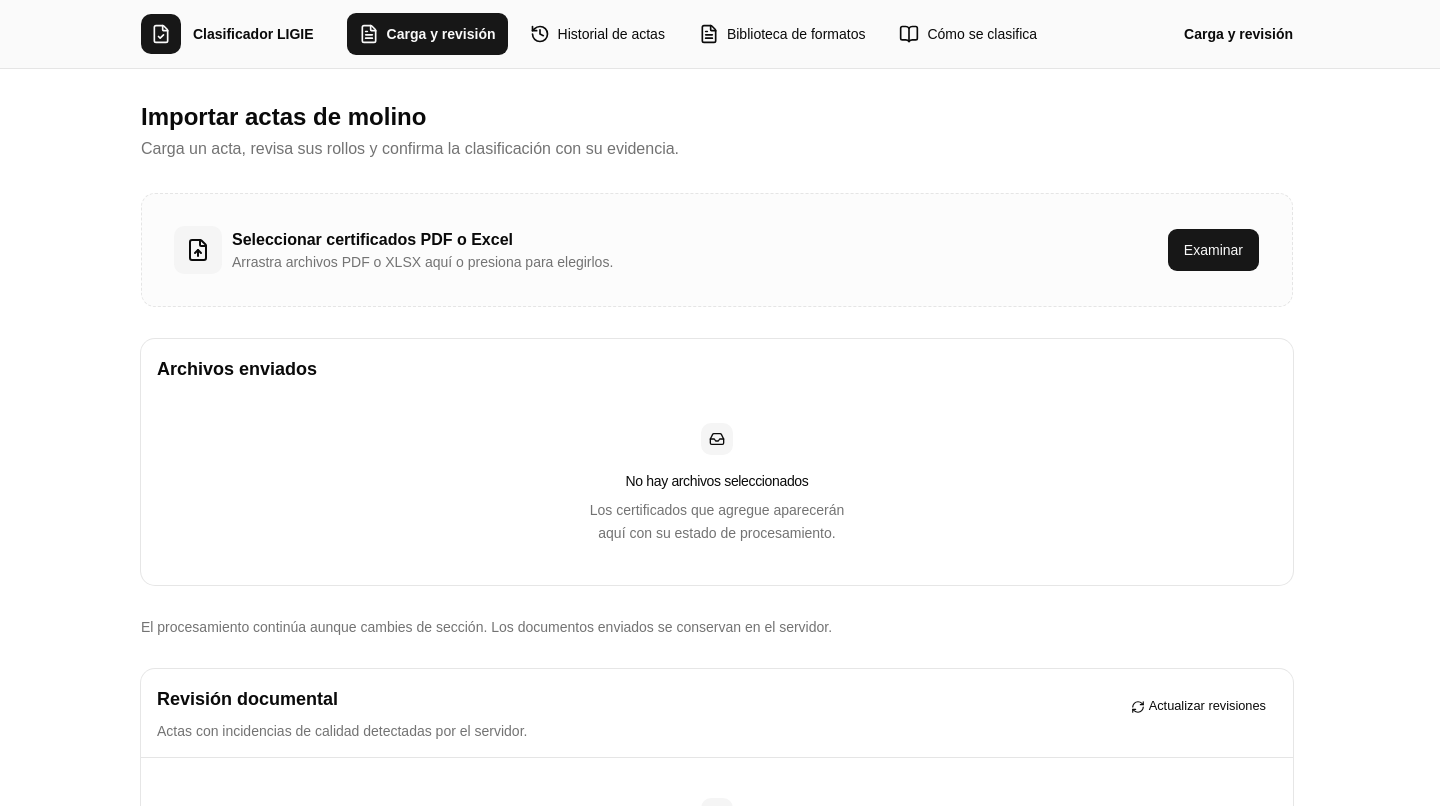
Borrar el acta abierta › muestra el error 403 y permite reintentar sin cerrar el acta
The image size is (1440, 806).
Click the button "Historial de actas": [597, 34] box [516,12,678,56]
(page scrolled)
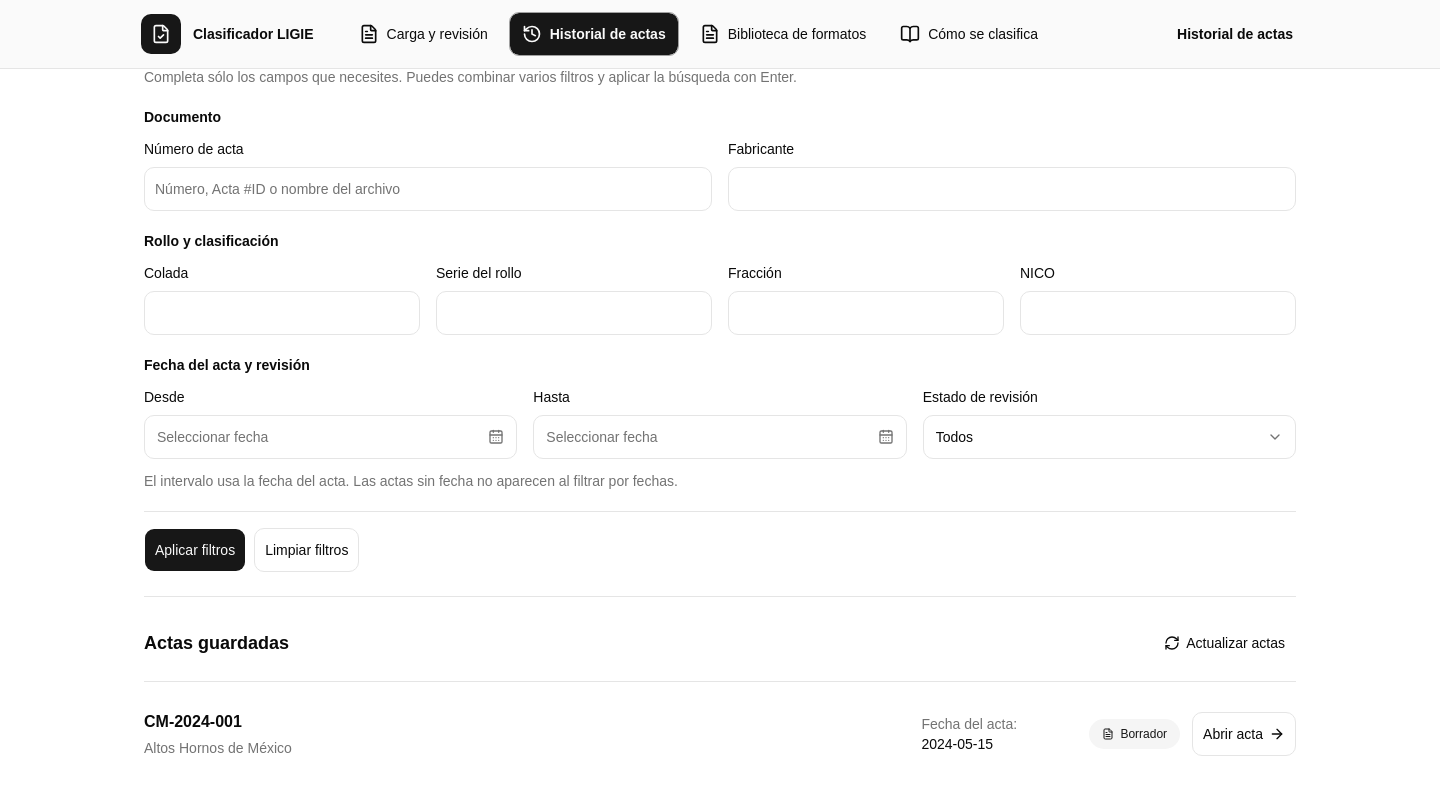
Click the button "Abrir acta": [1244, 734] box [1192,712,1296,756]
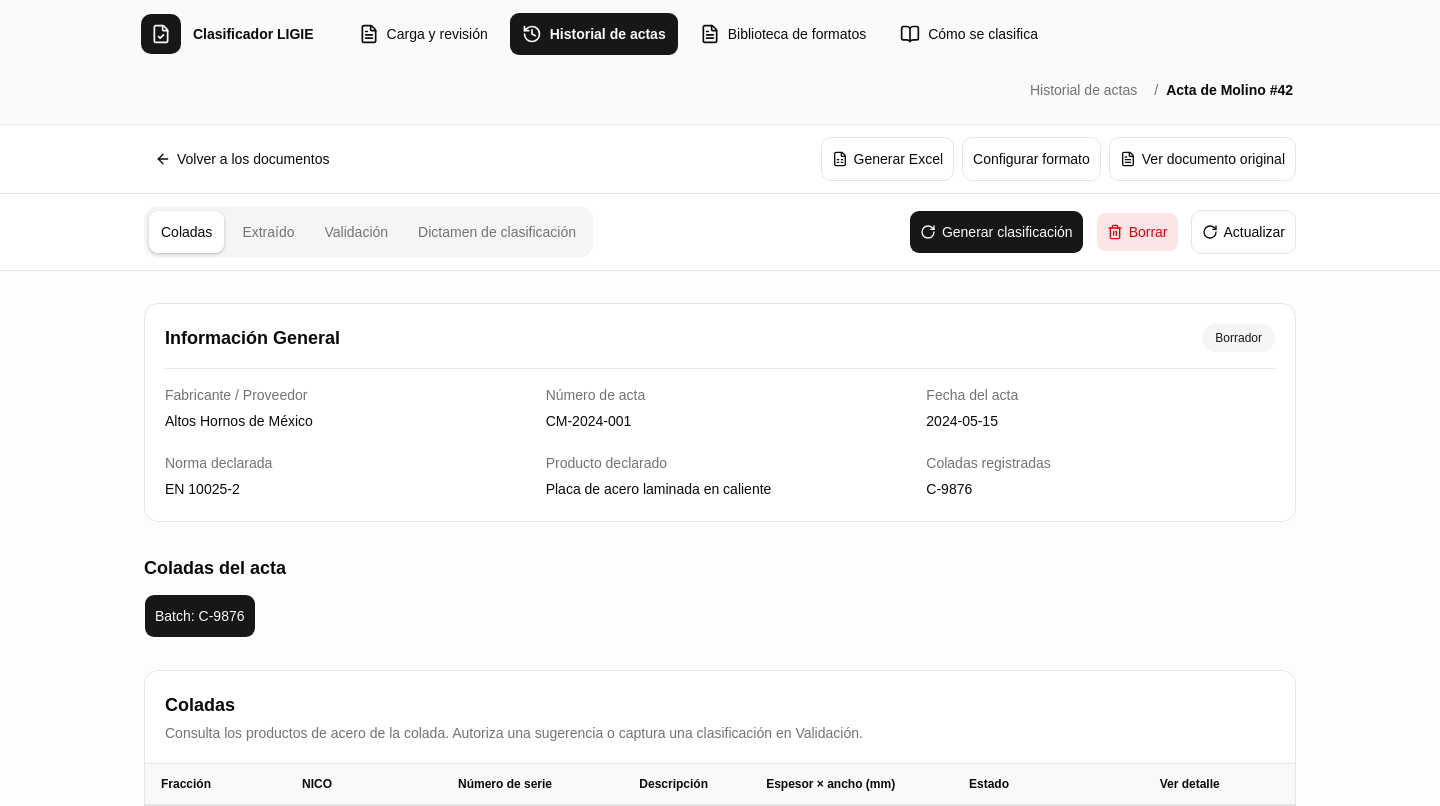
Click the button "Borrar": [1137, 232] box [1096,212,1178,252]
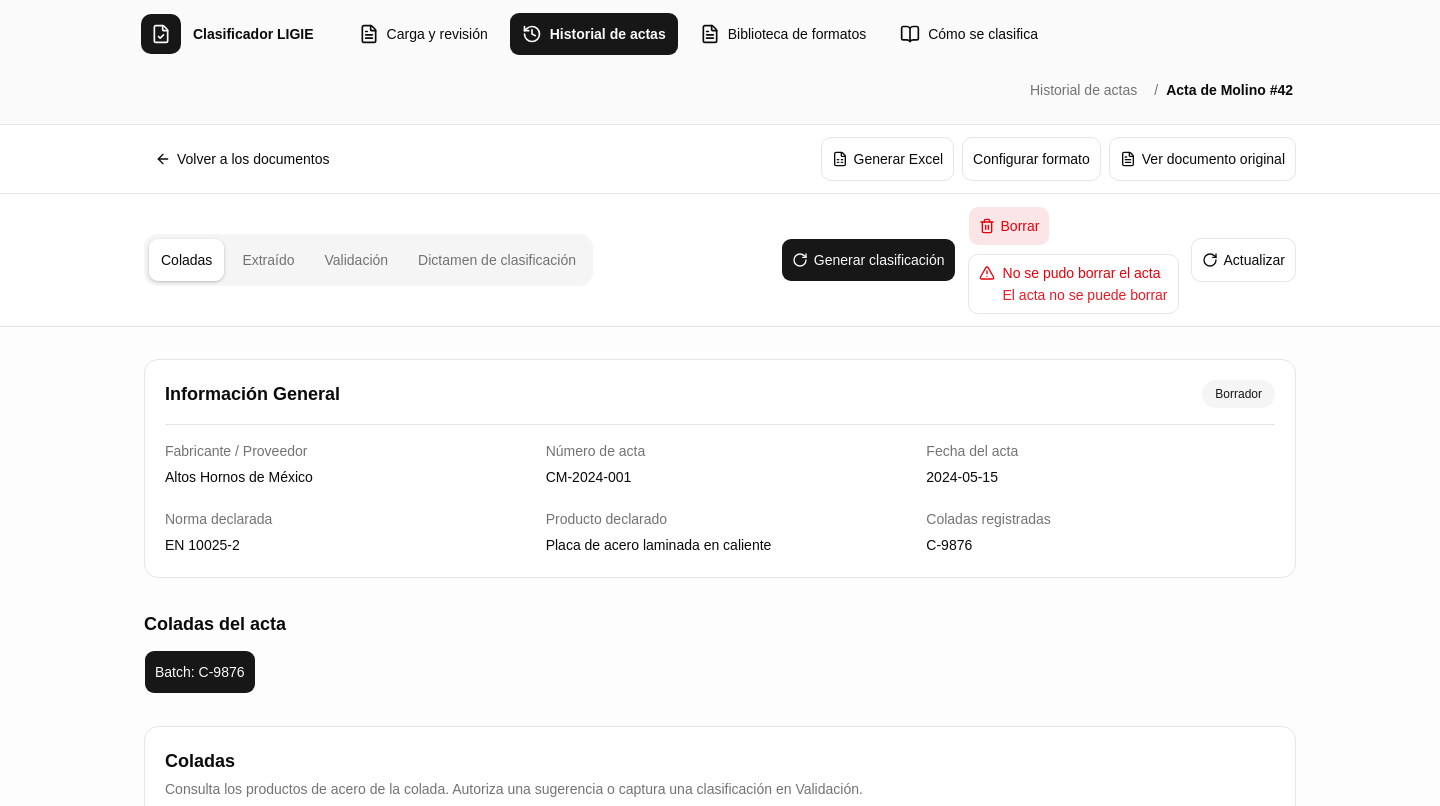
Expected: the button "Borrar" is enabled, [968,206,1050,246]
Expected: the button "Generar clasificación" is shown, [781,238,956,282]
Expected: the text "No se pudo borrar el acta" is shown, [1002,263,1168,283]
